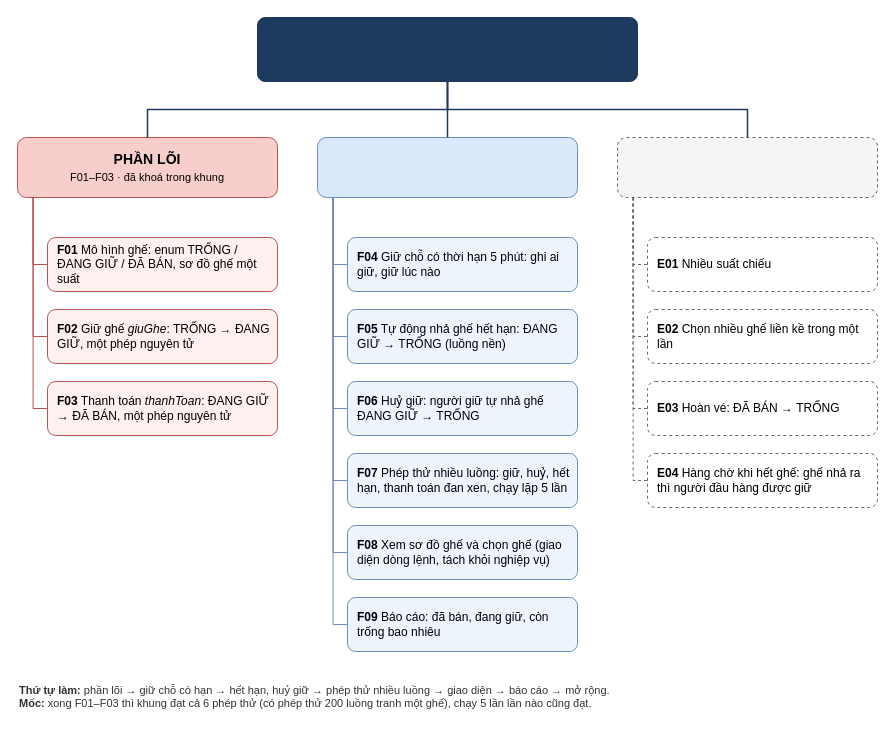
The diagram is 895 pixels wide and 739 high, and some of its shapes have lost their labels. The shapes that lost their labels are listed below. From the top down, each one's centre as x and y in pixels, then its label:
At point 447,49: "HỆ ĐẶT VÉ XEM PHIM CÓ GIỮ CHỖ Đề 05 · Sơ đồ phân rã chức năng".
At point 447,167: "PHẢI LÀM F04–F09".
At point 747,167: "MỞ RỘNG TỰ CHỌN E01–E04".
